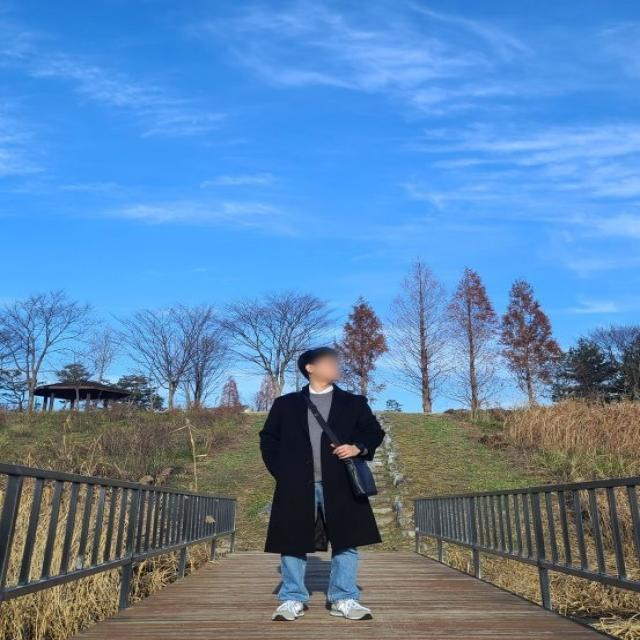coat: (258, 382, 386, 558)
denimpants: (276, 475, 362, 605)
